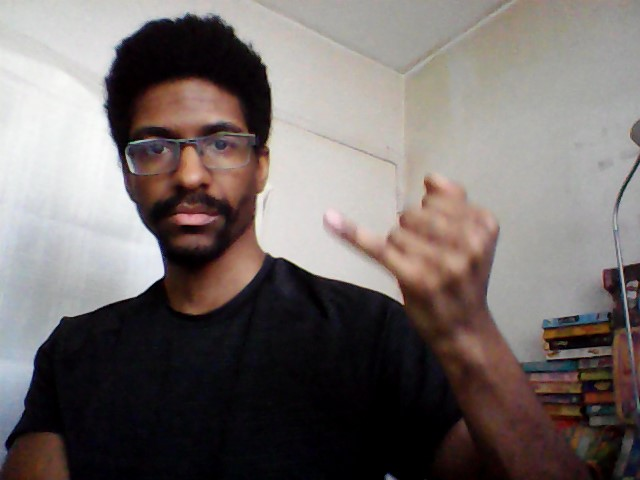j: (321, 166, 505, 323)
